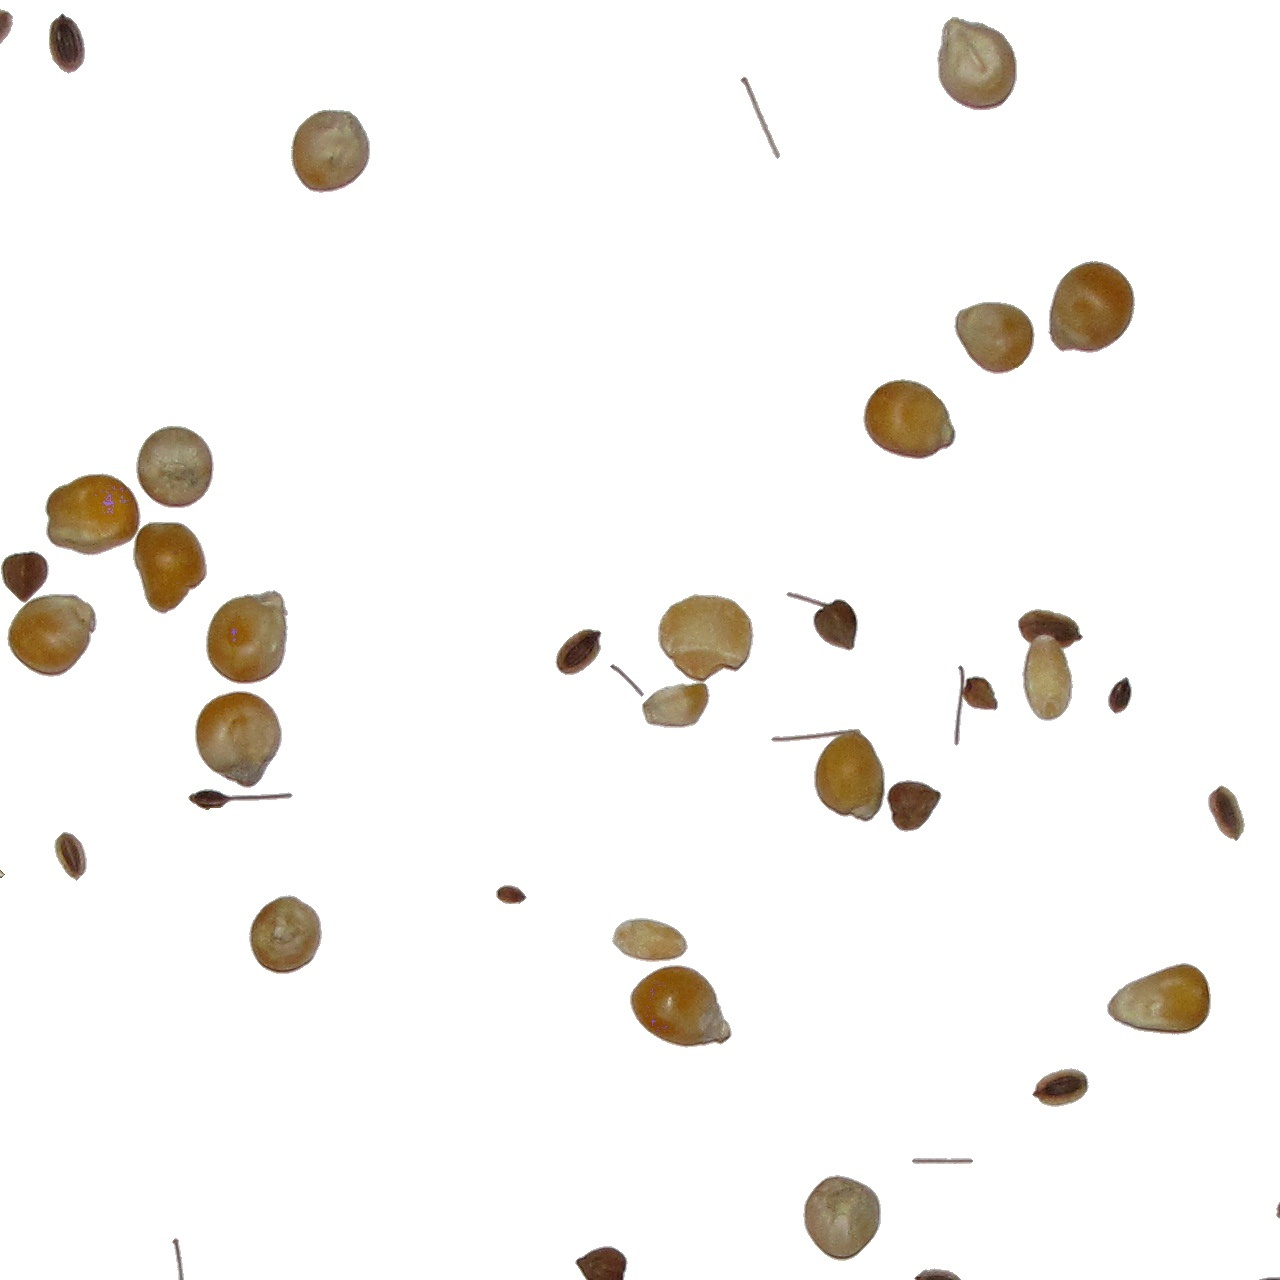buckwheat: (785, 591, 859, 652), (953, 663, 999, 747), (641, 681, 712, 729), (1, 550, 50, 604), (48, 12, 86, 75), (554, 628, 602, 676), (1207, 784, 1246, 842), (574, 1245, 629, 1280), (1107, 676, 1133, 715), (171, 1237, 188, 1280)
dill: (738, 76, 781, 159), (53, 831, 88, 881), (495, 884, 527, 905), (911, 1157, 974, 1165)
mais: (658, 593, 755, 685), (629, 964, 733, 1049), (195, 690, 282, 789), (1047, 260, 1136, 354), (45, 472, 142, 557), (205, 588, 290, 685), (6, 593, 98, 678), (1107, 962, 1212, 1036), (862, 377, 956, 459), (937, 16, 1017, 111), (813, 723, 886, 823), (132, 520, 207, 615), (290, 108, 372, 195), (802, 1175, 881, 1262), (135, 425, 215, 509), (953, 301, 1036, 375), (248, 894, 324, 975)
other: (1017, 639, 1068, 722), (611, 917, 689, 964), (885, 779, 942, 833), (188, 788, 294, 811), (1032, 1067, 1090, 1108), (610, 663, 645, 697), (915, 1267, 968, 1280), (1275, 1175, 1280, 1220), (1246, 1276, 1280, 1280)
